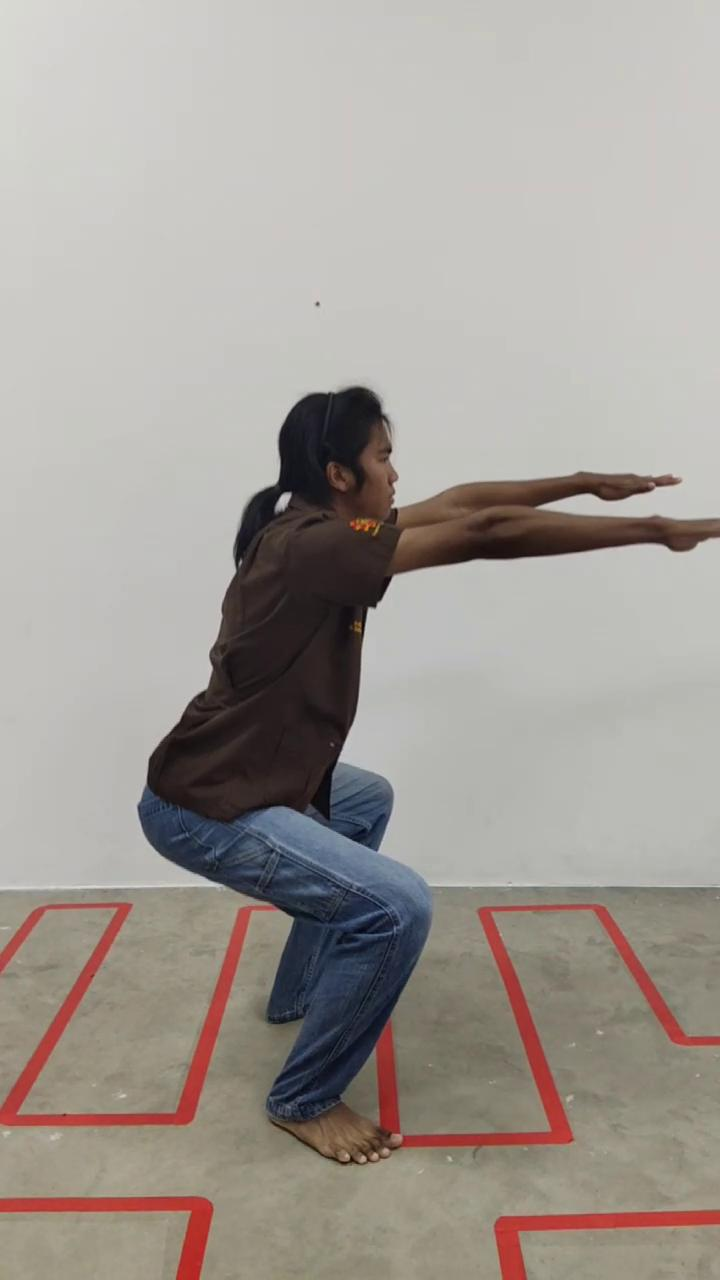squat down: (137, 387, 720, 1170)
